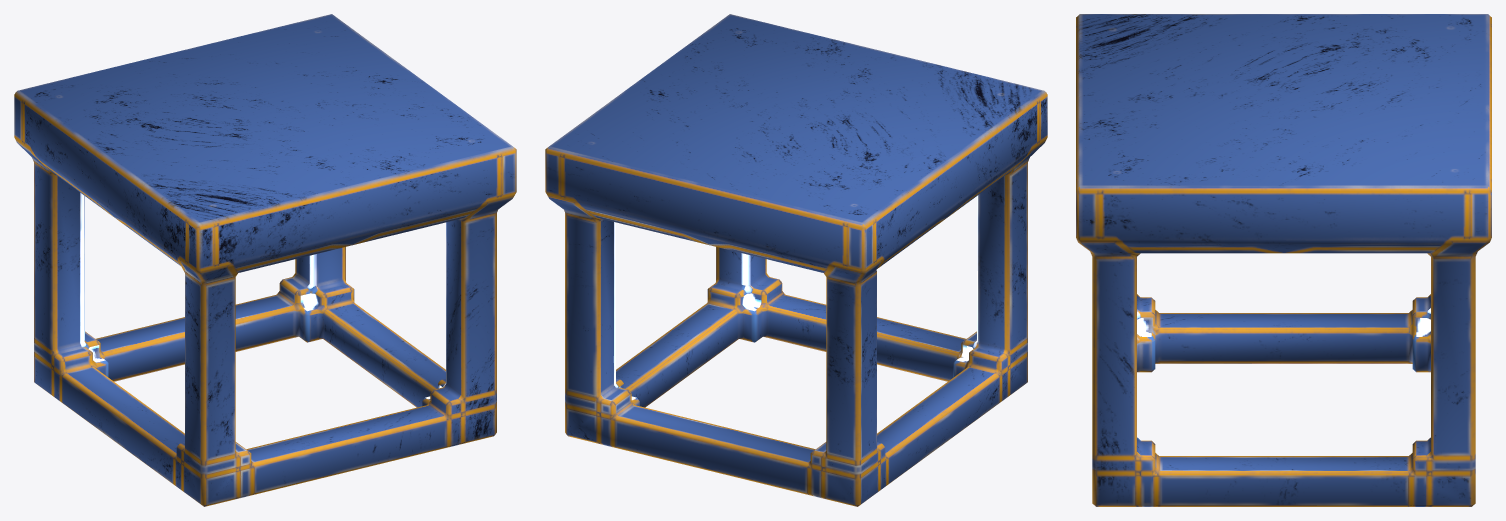
The model's file is CubeSpawner.fbx.
3 views of the same model, side by side, from view 1: azimuth 30°, elevation 25°; view 2: azimuth 150°, elevation 25°; view 3: azimuth 270°, elevation 25° (orthographic). The views are drawn at different scales.
Visible parts, largest first — view 1: Cube.002; view 2: Cube.002; view 3: Cube.002.
Part boxes in pixels (x1,y1,x2,y2): Cube.002: (14, 14, 516, 506); Cube.002: (545, 14, 1047, 506); Cube.002: (1076, 14, 1491, 506).
Size of the model in its own units: 217 by 189 by 217.
